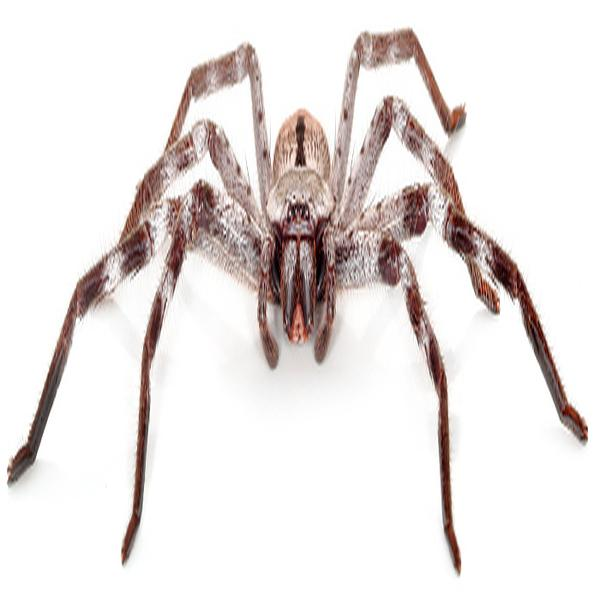Huntsman Spider: (25, 29, 575, 558)
